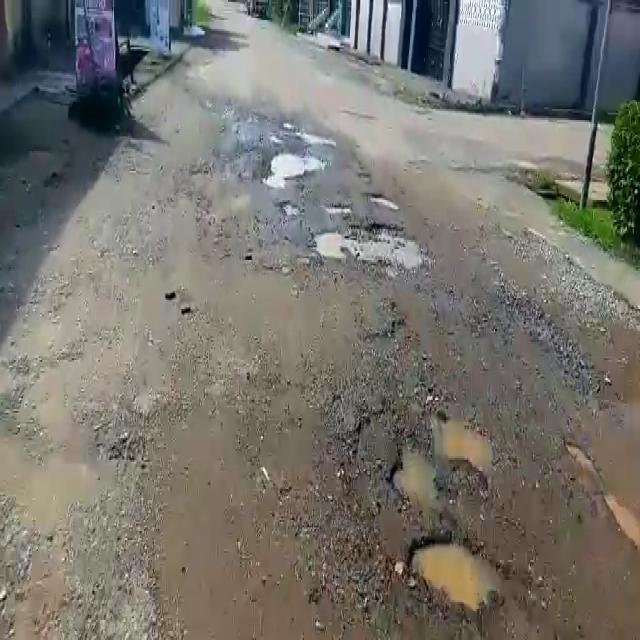pothole: (382, 420, 501, 500), (404, 532, 504, 617), (314, 227, 424, 271), (263, 147, 326, 184), (365, 193, 400, 213), (321, 202, 351, 215)
